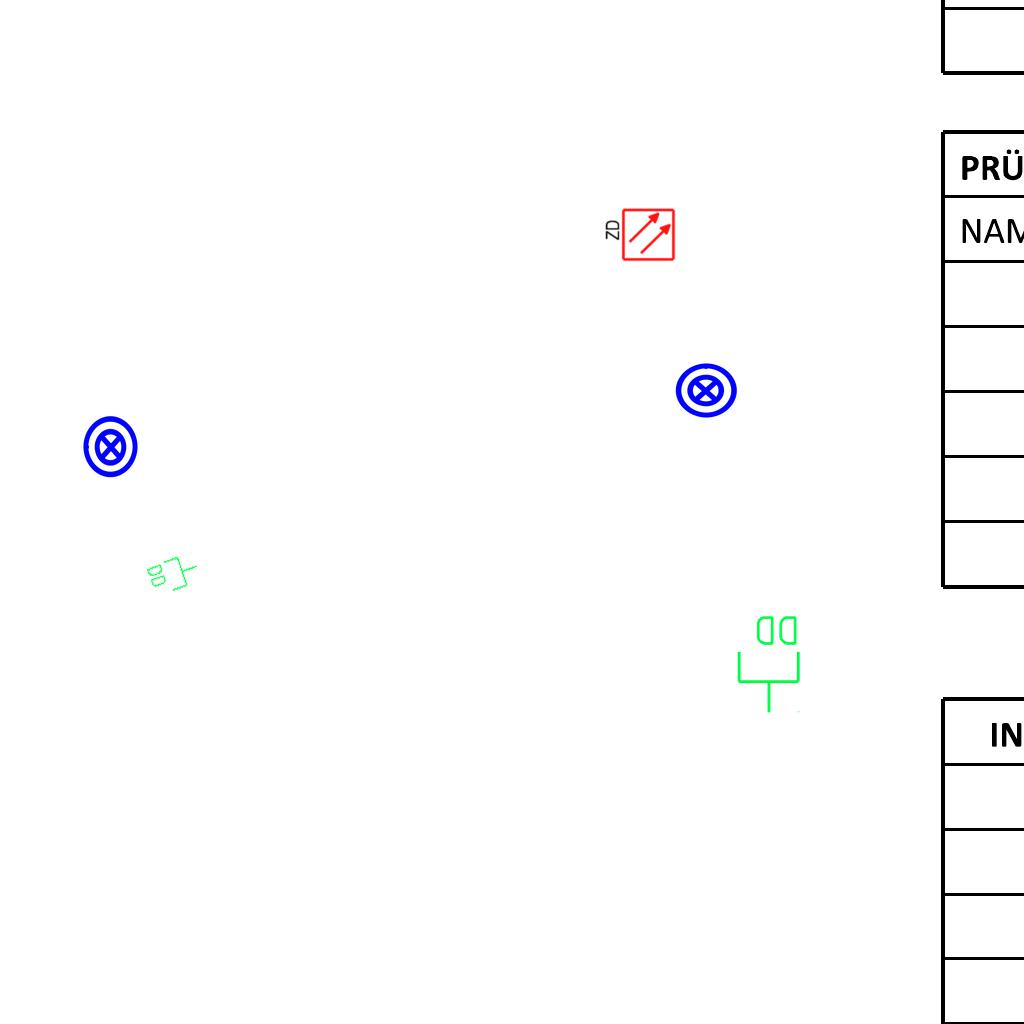Datenanschluss_zweifach: (735, 612, 804, 715), (143, 549, 204, 599)
Taster_beleuchtet: (78, 414, 144, 480), (673, 358, 739, 424)
ZD_Melder_in_Zwischendecke_mit_Revisionsoeffnung_mind_40_x_40_cm: (602, 207, 676, 264)
